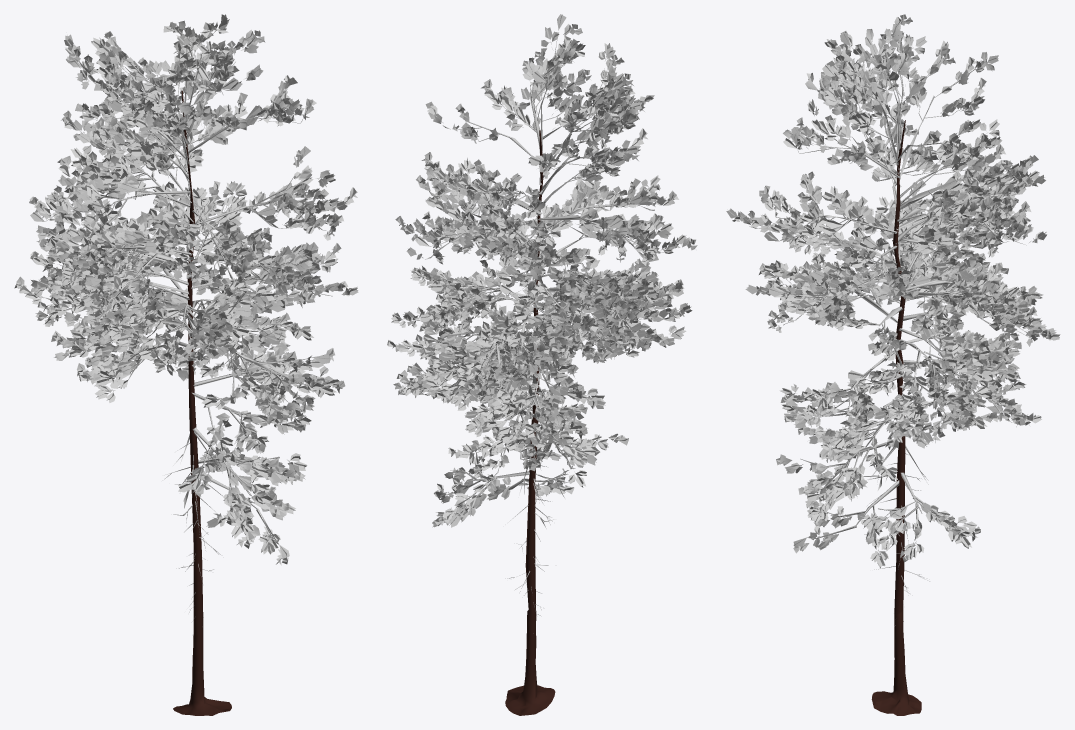
Rendered from pine_c_lod1.obj.
The picture shows the model from 3 angles, left to right: view 1: azimuth 30°, elevation 25°; view 2: azimuth 150°, elevation 25°; view 3: azimuth 270°, elevation 25°; orthographic projection. The views are drawn at different scales.
Parts seen in each view (by area): view 1: pine_c_lod1; view 2: pine_c_lod1; view 3: pine_c_lod1.
Part boxes in pixels (x1,y1,x2,y2): pine_c_lod1: (14, 14, 358, 715); pine_c_lod1: (387, 14, 697, 715); pine_c_lod1: (726, 14, 1060, 715).
Bounding box in the file's own units: 299 × 691 × 311.
